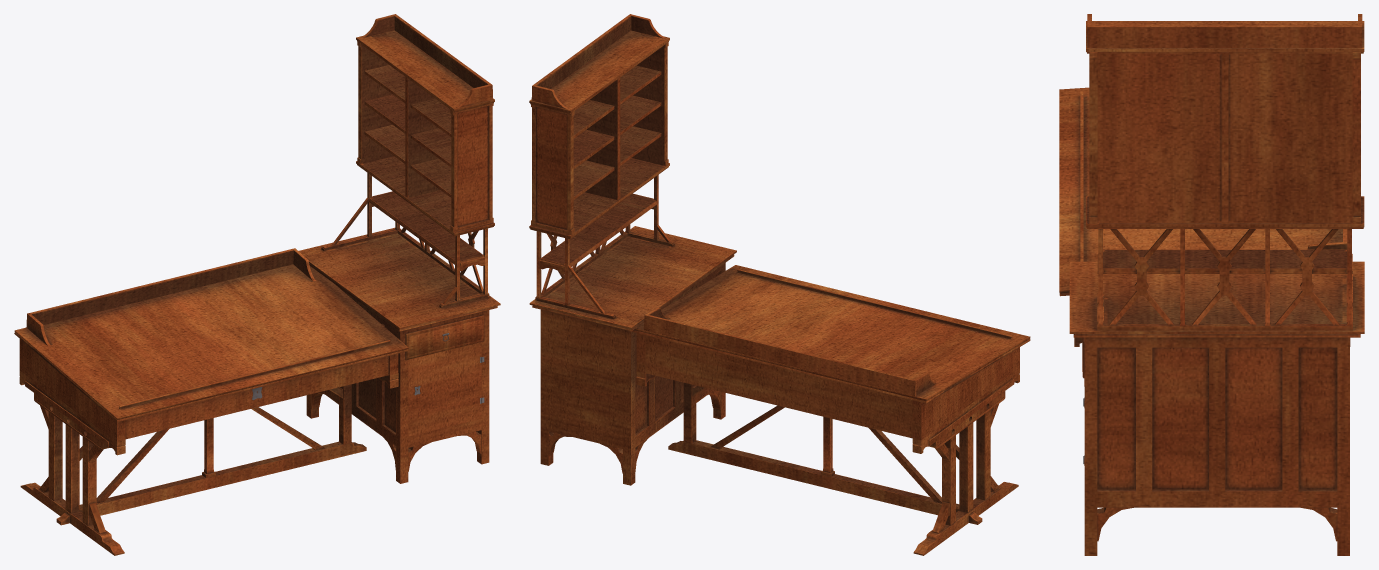
The model's file is old_desk.glb.
3 renders of one model, left to right at view 1: azimuth 30°, elevation 25°; view 2: azimuth 150°, elevation 25°; view 3: azimuth 270°, elevation 25°, orthographic. The views are drawn at different scales.
Visible parts, largest first — view 1: Cube.002, Cube.020, Cube.031, Cube.009, Cube.041, Cube.032, Cube, Cube.007, Cube.014, Cube.035, Cube.003, Cube.001 (+14 smaller); view 2: Cube.002, Cube.009, Cube, Cube.020, Cube.031, Cube.032, Cube.007, Cube.014, Cube.035, Cube.001, Cube.003, Cube.024 (+12 smaller); view 3: Cube.009, Cube.033, Cube.020, Cube.002, Cube.036, Cube.024, Cube.045, Cube.035, Cube.031, Cube.023, Cube.027, Cube.034 (+4 smaller).
Boxes of the visible parts, <box> form: Cube.002: <box>14,264,408,421</box>; Cube.020: <box>299,227,500,331</box>; Cube.031: <box>357,41,493,232</box>; Cube.009: <box>306,285,489,483</box>; Cube.041: <box>408,342,481,436</box>; Cube.032: <box>364,65,451,197</box>; Cube: <box>125,356,388,439</box>; Cube.007: <box>26,248,315,346</box>; Cube.014: <box>56,441,366,525</box>; Cube.035: <box>356,30,494,112</box>; Cube.003: <box>48,412,96,525</box>; Cube.001: <box>19,339,398,441</box>; Cube.002: <box>632,265,1030,403</box>; Cube.009: <box>540,263,725,485</box>; Cube: <box>645,335,912,438</box>; Cube.020: <box>529,226,736,331</box>; Cube.031: <box>531,41,668,234</box>; Cube.032: <box>573,65,661,199</box>; Cube.007: <box>643,307,936,396</box>; Cube.014: <box>668,440,982,524</box>; Cube.035: <box>529,30,669,113</box>; Cube.001: <box>636,333,1019,440</box>; Cube.003: <box>942,410,990,525</box>; Cube.024: <box>539,193,656,268</box>; Cube.009: <box>1084,337,1349,555</box>; Cube.033: <box>1097,53,1352,223</box>; Cube.020: <box>1069,261,1364,337</box>; Cube.002: <box>1059,87,1342,296</box>; Cube.036: <box>1087,14,1362,47</box>; Cube.024: <box>1097,249,1352,273</box>; Cube.045: <box>1109,229,1339,325</box>; Cube.035: <box>1086,21,1364,53</box>; Cube.031: <box>1089,52,1360,223</box>; Cube.023: <box>1097,273,1352,330</box>; Cube.027: <box>1086,196,1364,228</box>; Cube.034: <box>1221,52,1228,223</box>.
Bounding box in the file's own units: 2.29 × 2.1 × 1.09.
Materials: 1 (1 with a texture image).
